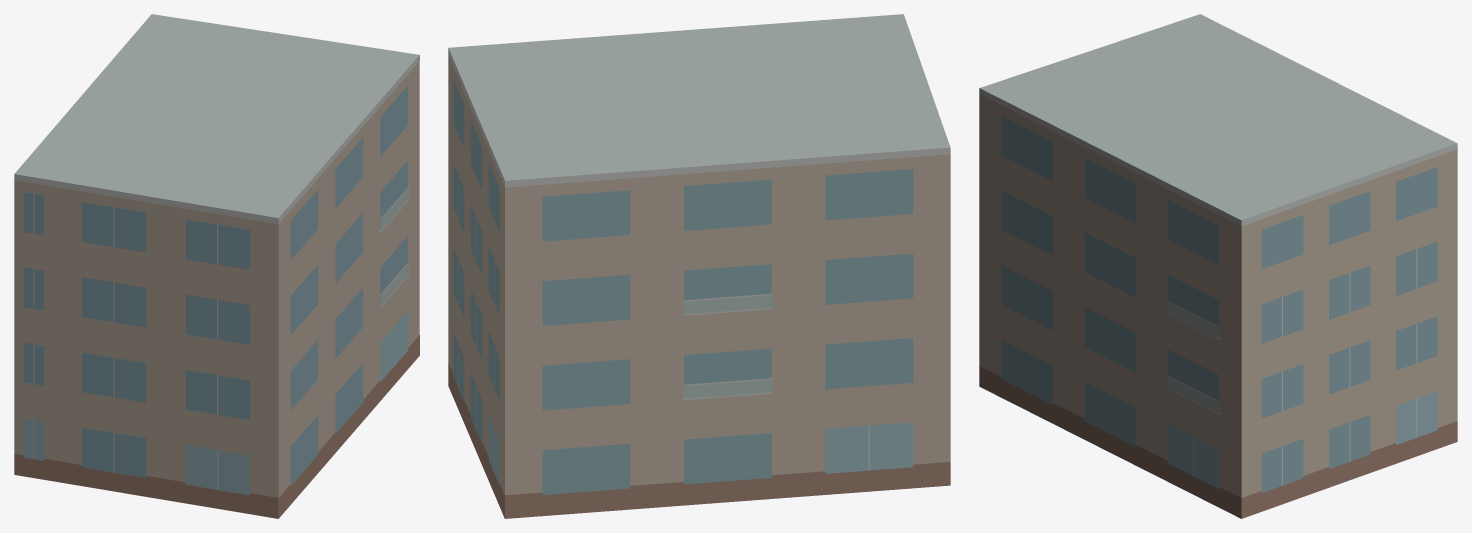
File: survey-upis-32848866.glb
The picture shows the model from 3 angles, left to right: view 1: azimuth 30°, elevation 25°; view 2: azimuth 150°, elevation 25°; view 3: azimuth 270°, elevation 25°; orthographic projection. The views are drawn at different scales.
Visible parts, largest first — view 1: survey-upis-32848866.tmp; view 2: survey-upis-32848866.tmp; view 3: survey-upis-32848866.tmp.
Boxes of the visible parts, x1,y1,x2,y2 form: survey-upis-32848866.tmp: (14, 14, 419, 518); survey-upis-32848866.tmp: (448, 14, 950, 518); survey-upis-32848866.tmp: (979, 14, 1457, 518).
Size of the model in its own units: 18.1 by 12.2 by 17.72.
